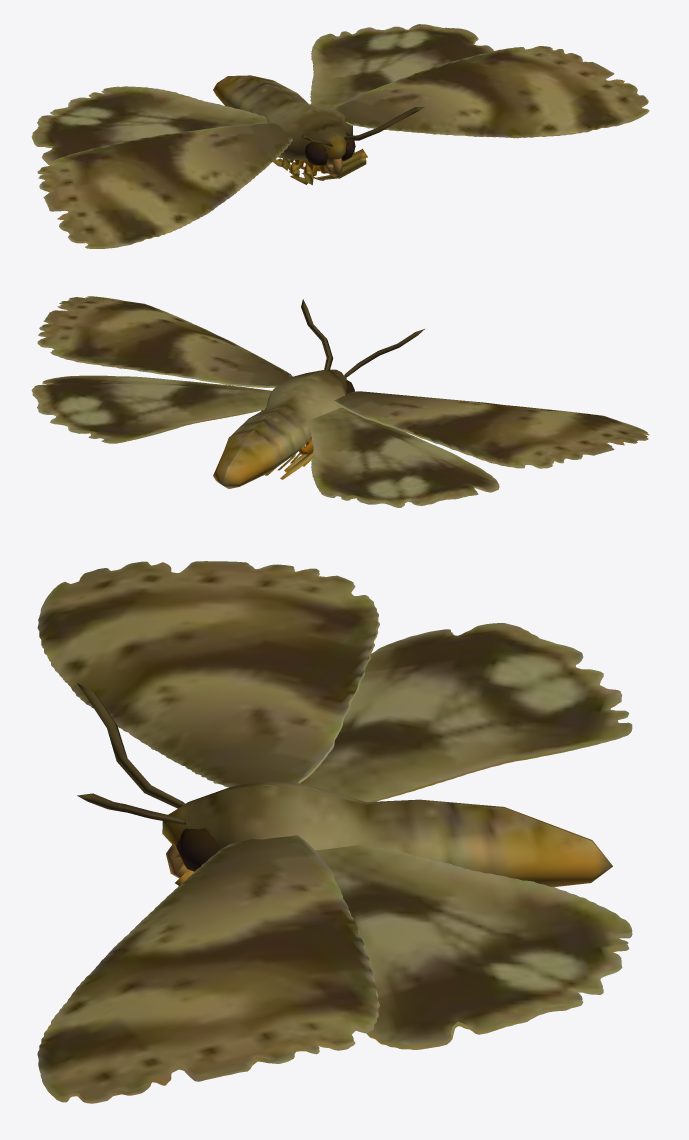
Rendered from moth.glb.
3 renders of one model, top to bottom at view 1: azimuth 30°, elevation 25°; view 2: azimuth 150°, elevation 25°; view 3: azimuth 270°, elevation 25°, orthographic. The views are drawn at different scales.
Bounding box in the file's own units: 3.18 × 0.5202 × 1.61.
Materials: 1 (1 with a texture image).
